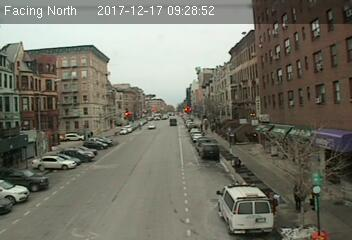car: (199, 141, 218, 156)
police: (216, 181, 275, 235)
